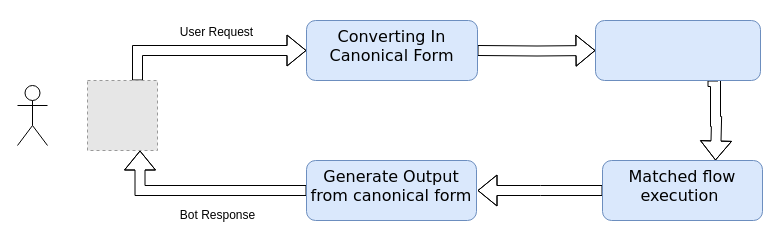
The diagram is 780 pixels wide and 247 high, and some of its shapes have lost their labels. Grey dashed boxes stand in for pictures. Each missing label, with the box of its shape:
Actor: (16, 84, 48, 146)
Matching Rails With Flow: (594, 20, 760, 80)
